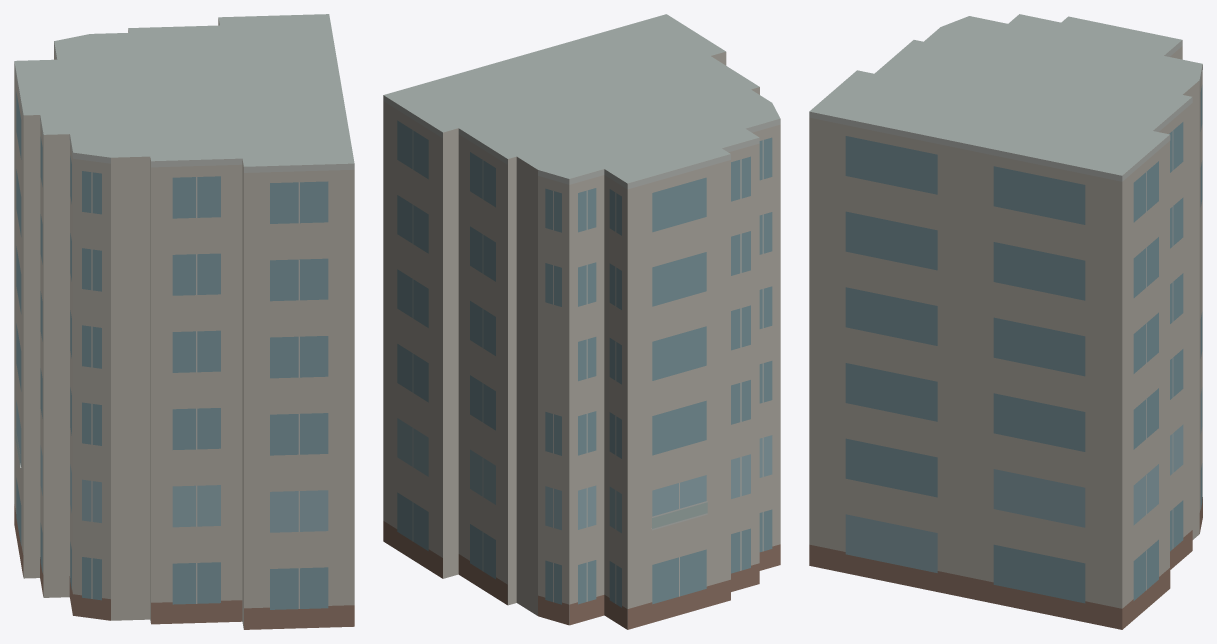
Rendered from survey-upis-32631907.glb.
The picture shows the model from 3 angles, left to right: view 1: azimuth 30°, elevation 25°; view 2: azimuth 150°, elevation 25°; view 3: azimuth 270°, elevation 25°; orthographic projection. The views are drawn at different scales.
Visible parts, largest first — view 1: survey-upis-32631907.tmp; view 2: survey-upis-32631907.tmp; view 3: survey-upis-32631907.tmp.
Boxes of the visible parts, x1=… form: survey-upis-32631907.tmp: x1=14, y1=14, x2=354, y2=629; survey-upis-32631907.tmp: x1=383, y1=14, x2=780, y2=629; survey-upis-32631907.tmp: x1=809, y1=14, x2=1202, y2=629.
Bounding box in the file's own units: 14.07 × 18.4 × 14.46.
